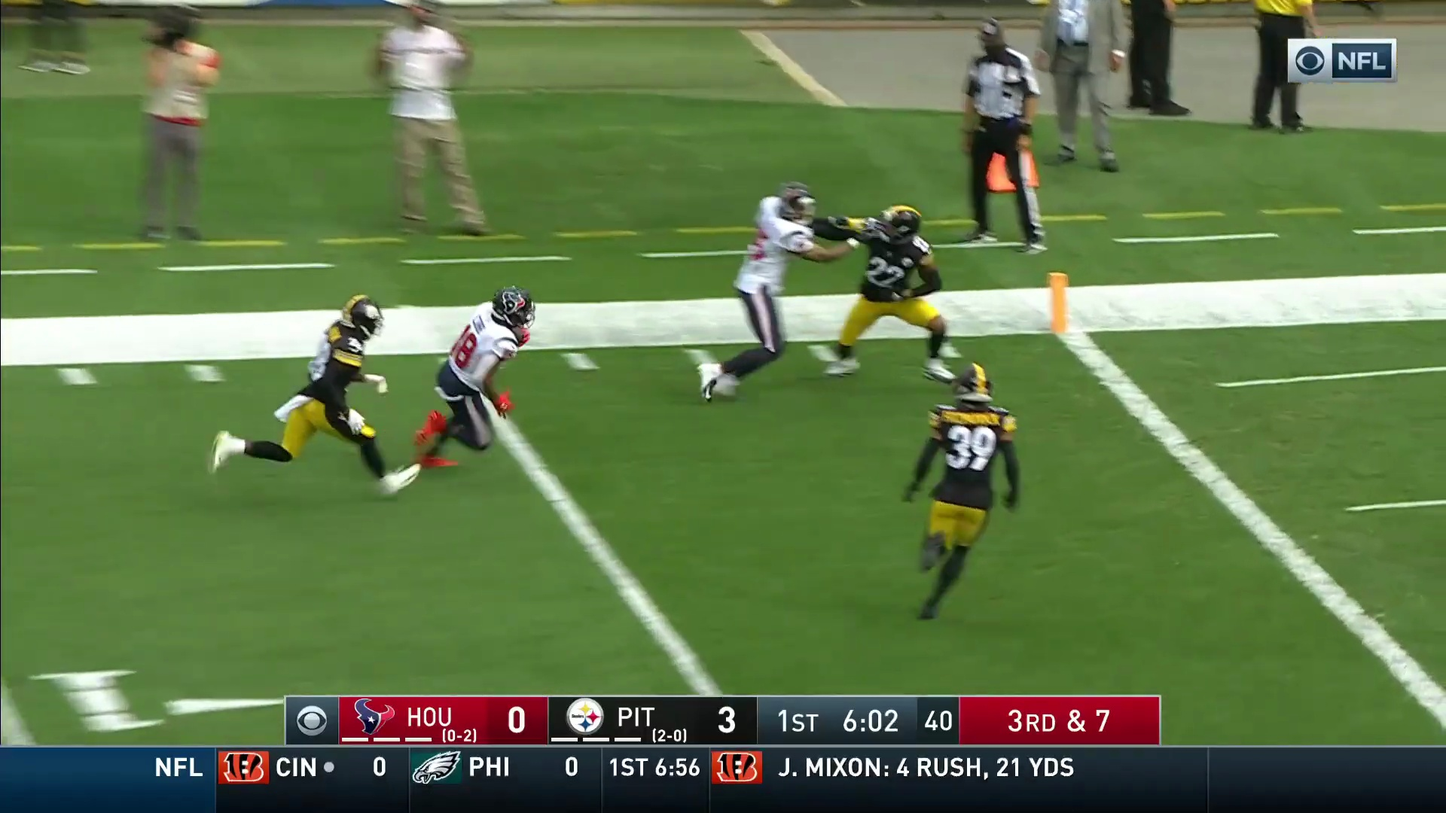Player: (376, 16, 482, 228), (141, 10, 220, 241), (434, 288, 533, 450)
